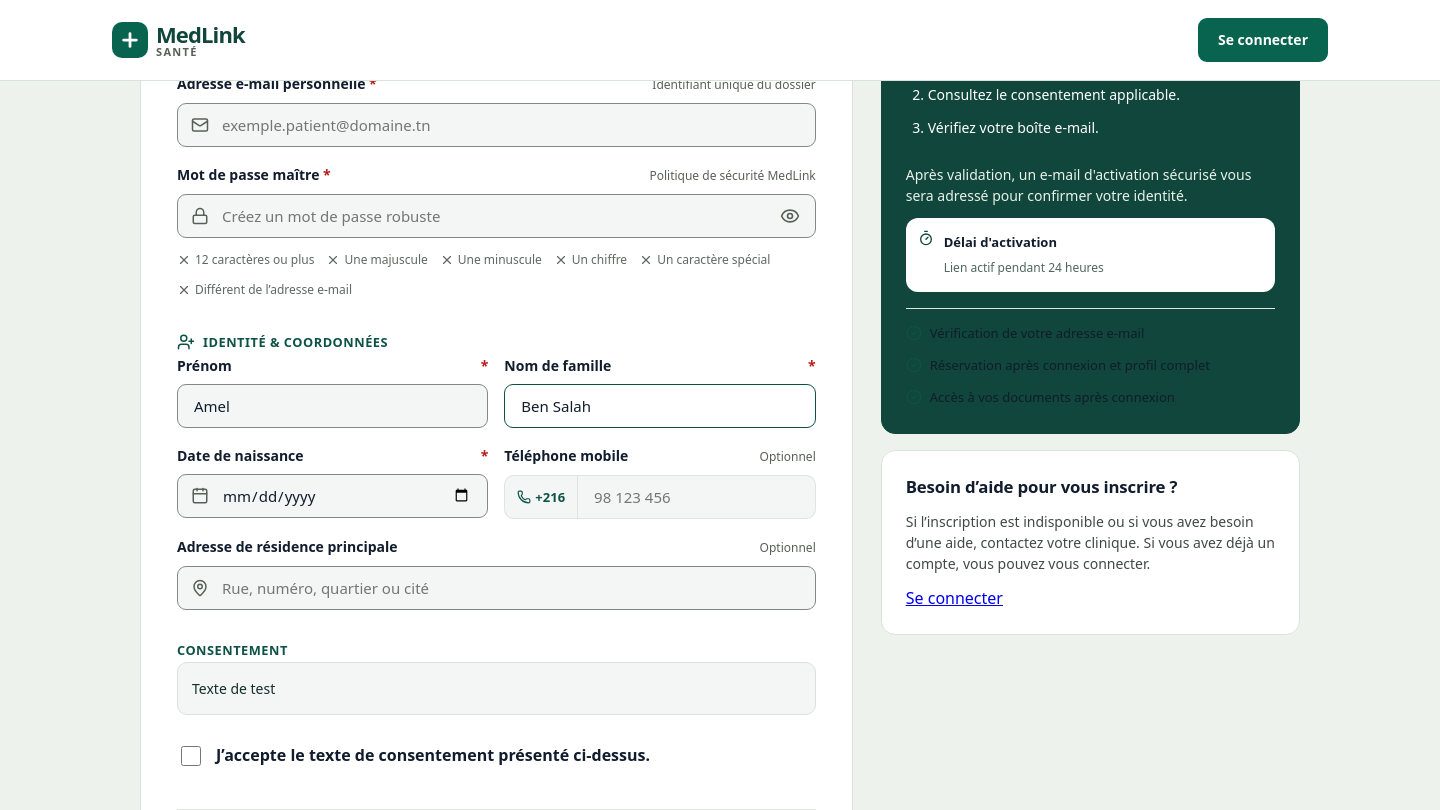
Test: shows the verify-email screen on 201
Earlier steps of the test are not shown.
(page scrolled)
Type "amel@example.com" into the field labelled "Adresse e-mail personnelle * Identifiant unique du dossier" at [496, 125], box 177,103 -> 816,147
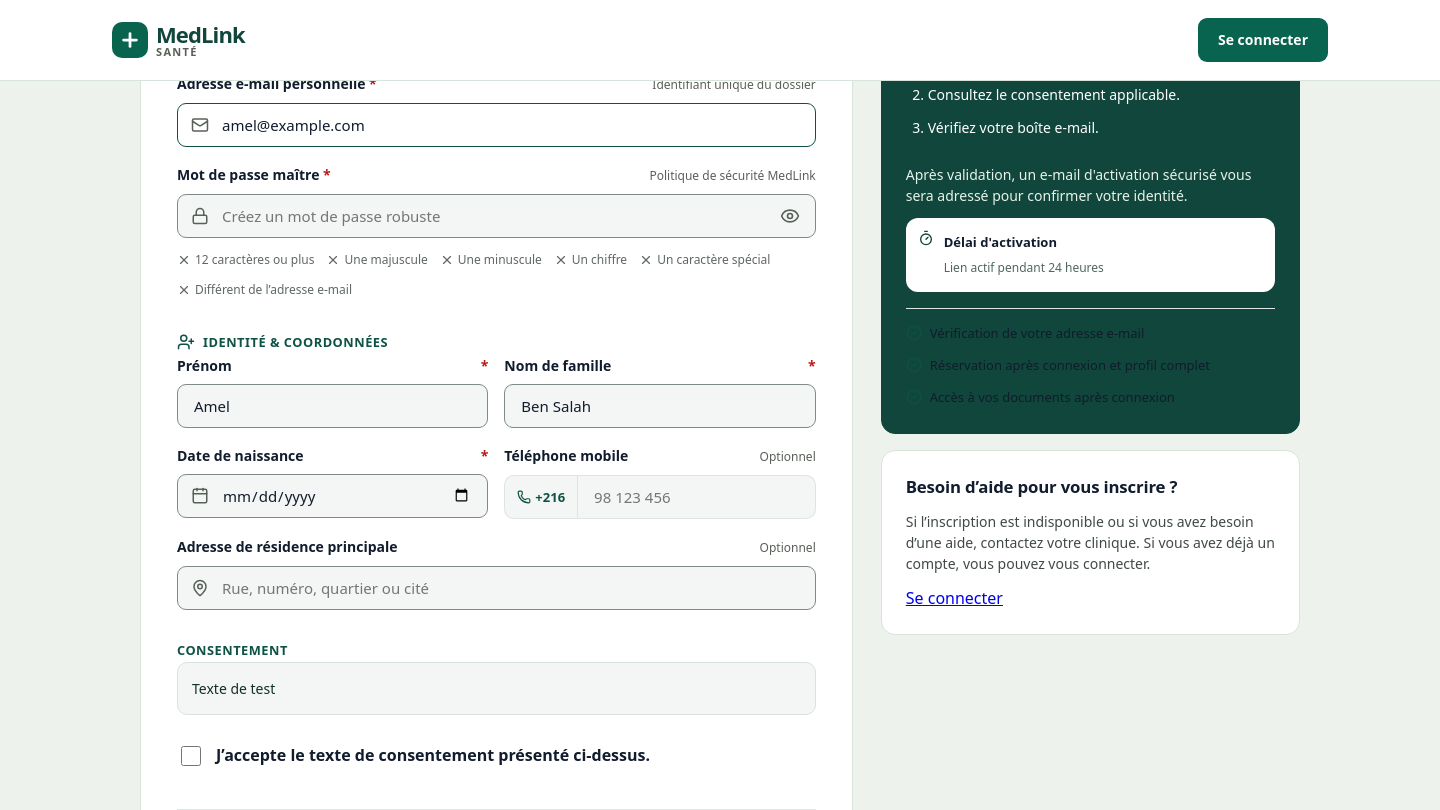
Type "Secret-12345!" into the password field labelled "Mot de passe maître * Politique de sécurité MedLink" at [496, 216], box 177,194 -> 816,238
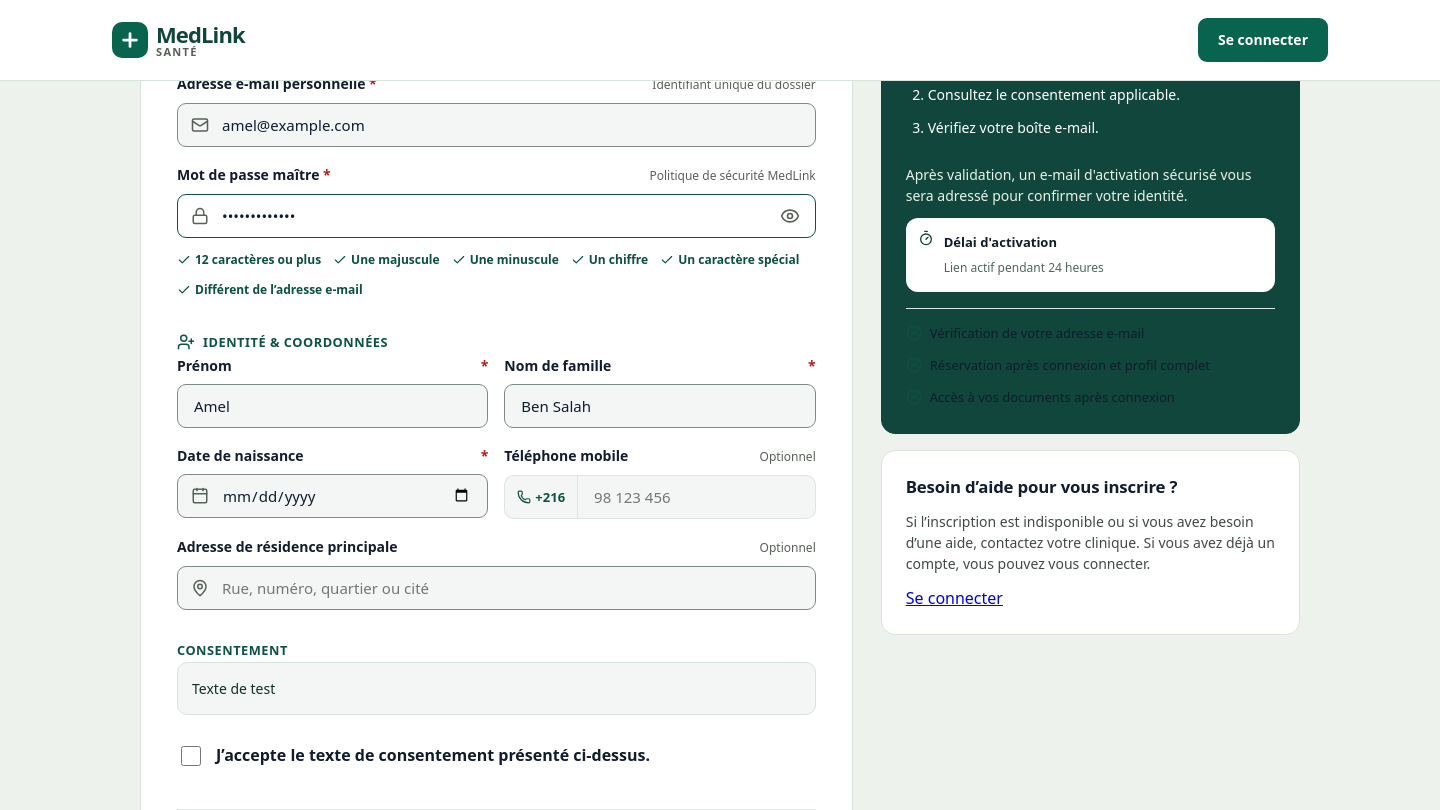
Type "1990-05-12" into the date field labelled "Date de naissance *" at [333, 496], box 177,474 -> 488,518
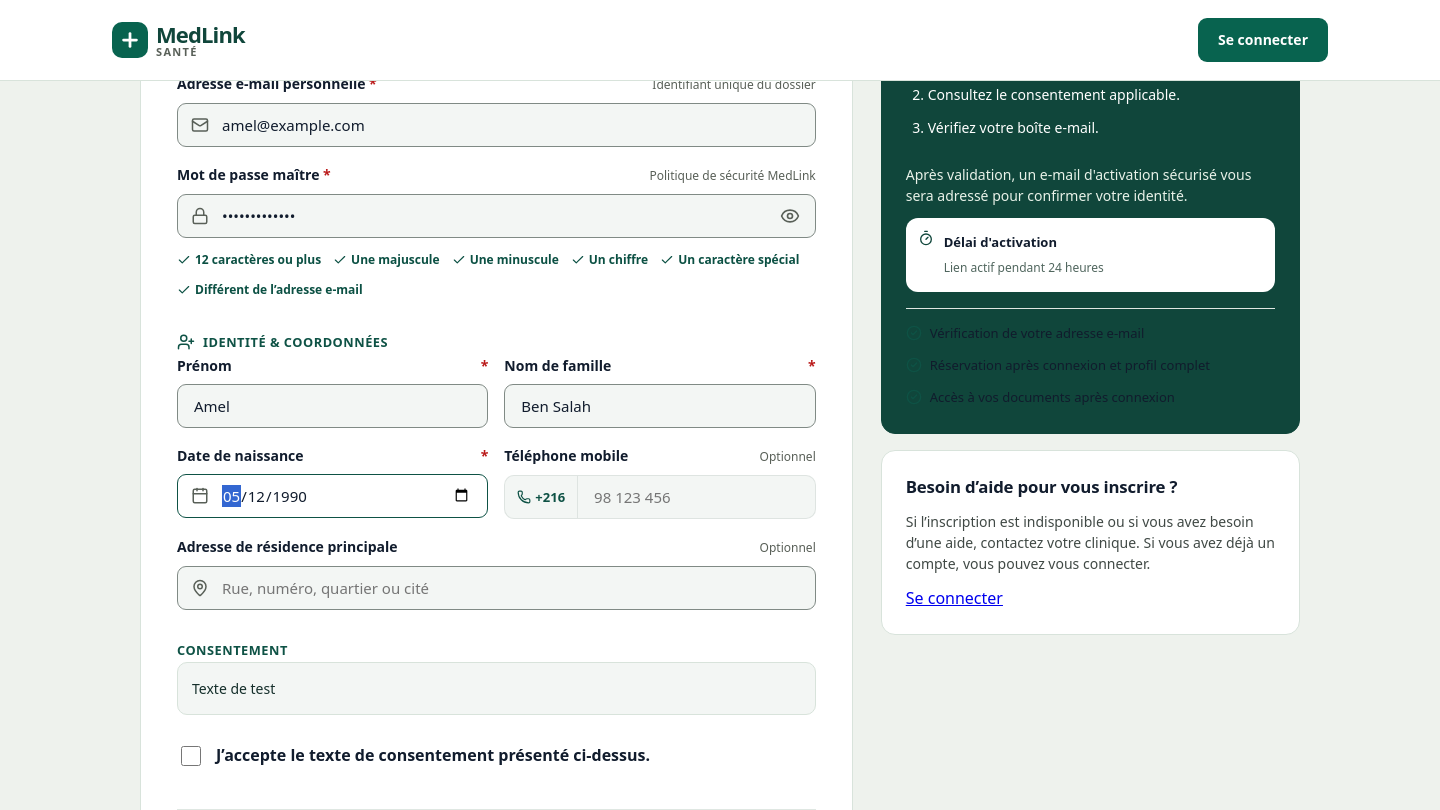
Type "+216 71 000 000" into the field labelled "Téléphone mobile Optionnel" at [696, 497], box 578,476 -> 815,518
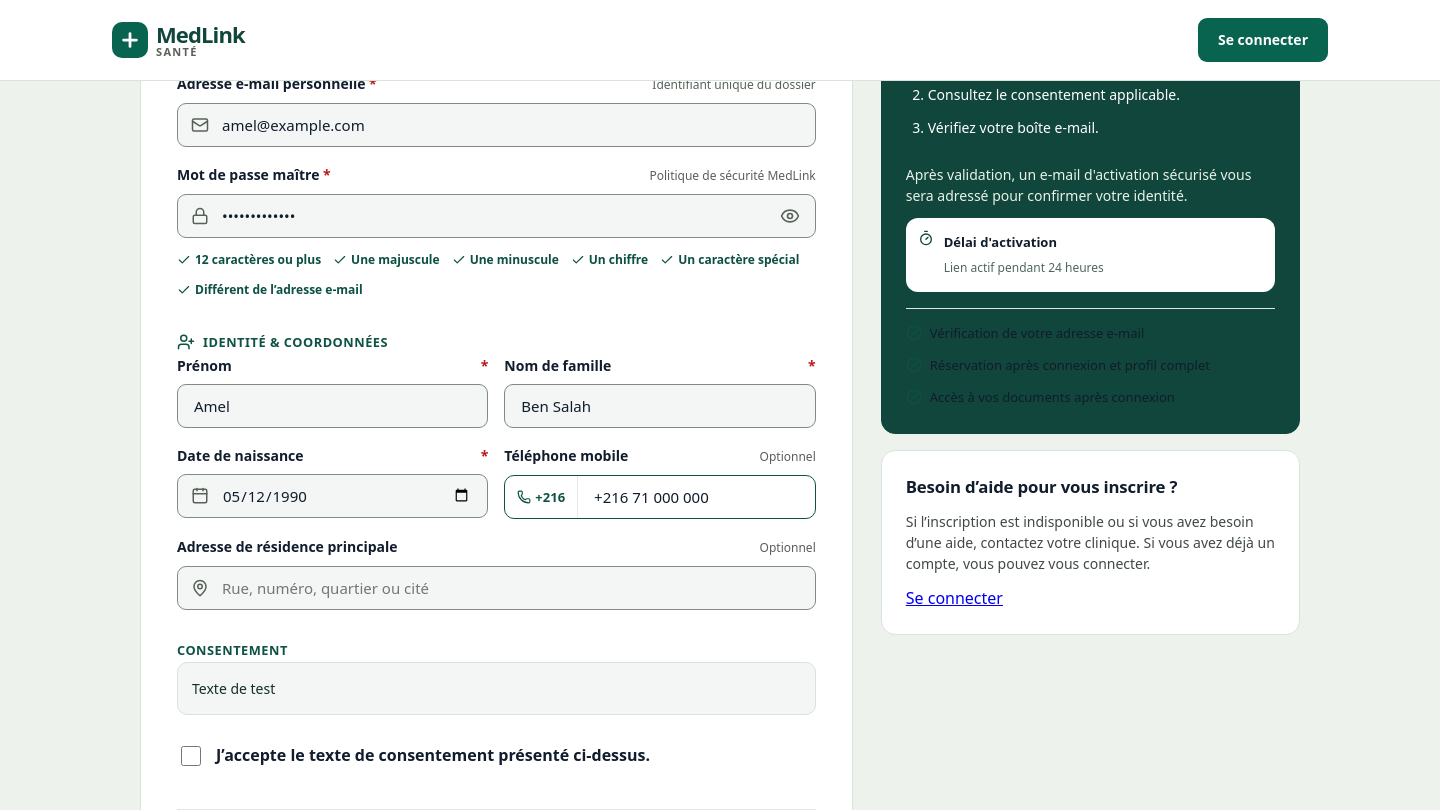
Type "12 rue de la Santé, Tunis" into the field labelled "Adresse de résidence principale Optionnel" at [496, 588], box 177,566 -> 816,610
(page scrolled)
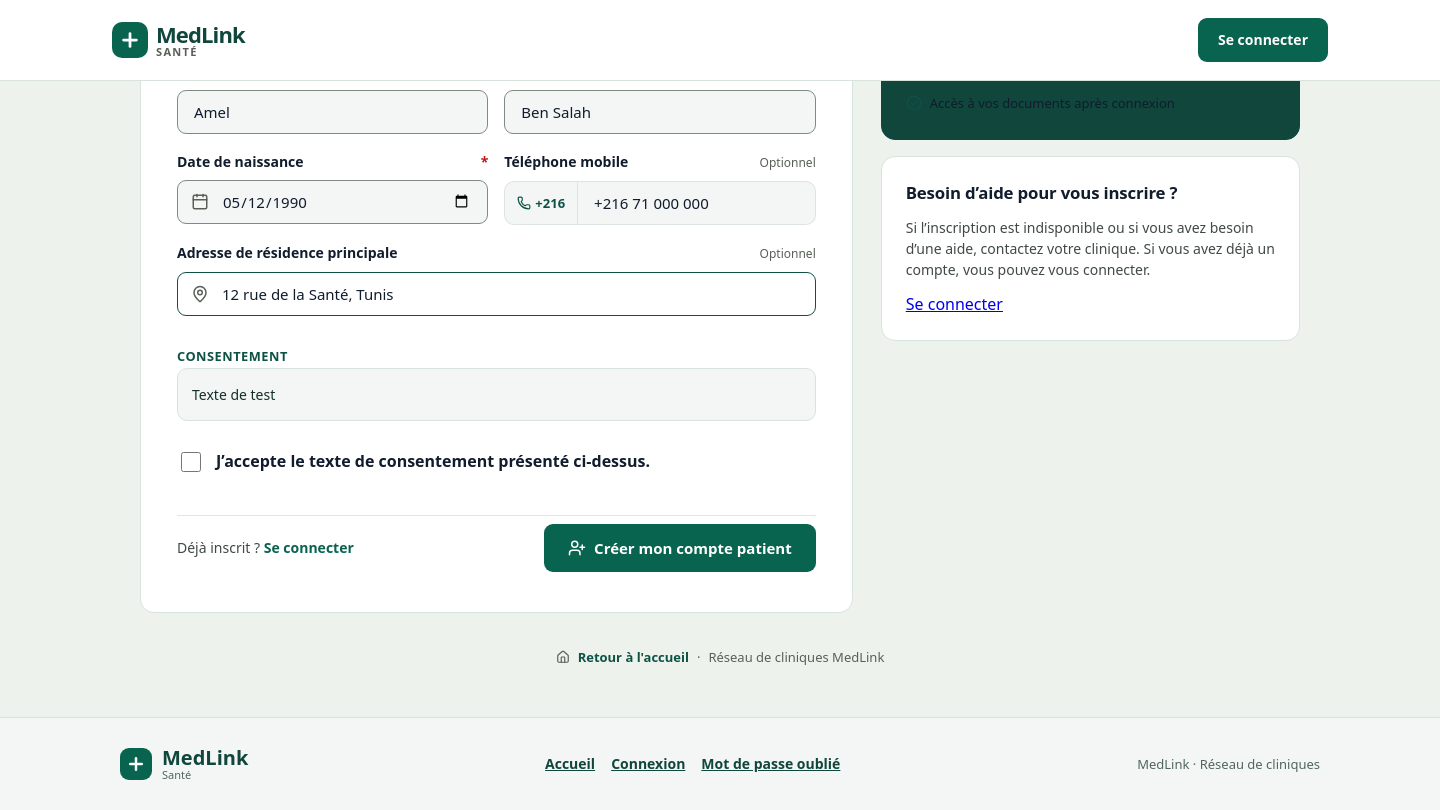
Click the button "Créer mon compte patient" at [680, 548], box 544,524 -> 816,572
(page scrolled)
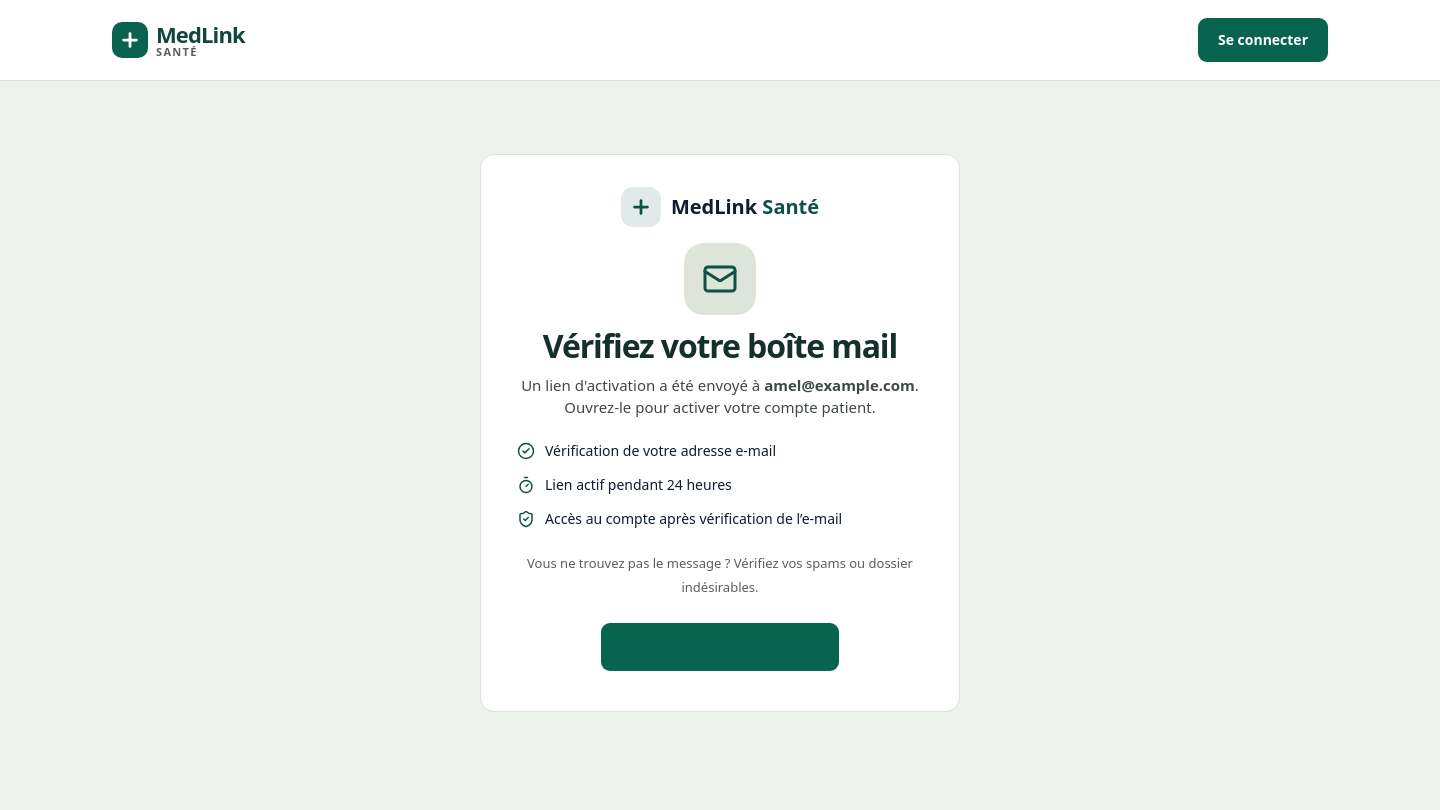
Check: the heading "Vérifiez votre boîte mail" is shown, box 517,327 -> 923,366
Check: the text "amel@example.com" is shown, box 764,375 -> 915,395
